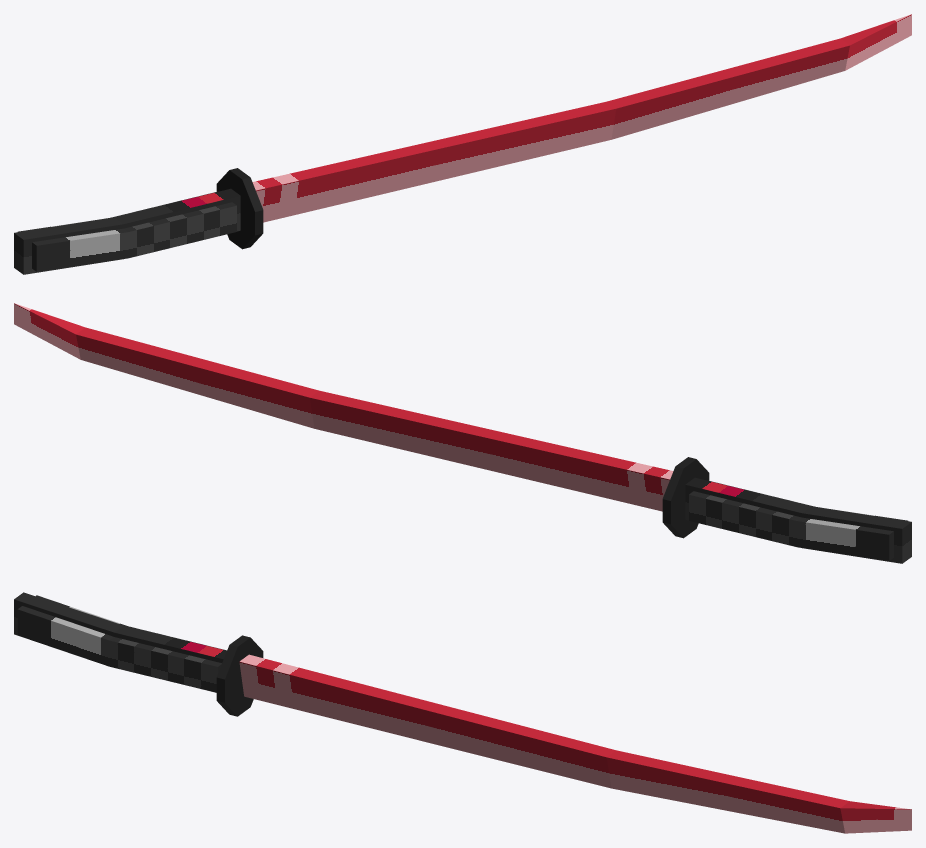
Rendered from murasama.fbx.
The picture shows the model from 3 angles, top to bottom: view 1: azimuth 30°, elevation 25°; view 2: azimuth 150°, elevation 25°; view 3: azimuth 330°, elevation 25°; orthographic projection.
Parts seen in each view (by area): view 1: mesh_3, mesh_1, mesh, mesh_2; view 2: mesh_3, mesh_1, mesh, mesh_2; view 3: mesh_3, mesh_1, mesh, mesh_2.
Boxes of the visible parts, x1,y1,x2,y2 form: mesh_3: (252, 14, 911, 222); mesh_1: (18, 191, 236, 271); mesh: (14, 188, 240, 274); mesh_2: (216, 168, 263, 249); mesh_3: (14, 303, 673, 511); mesh_1: (689, 480, 907, 560); mesh: (685, 477, 911, 563); mesh_2: (662, 457, 709, 538); mesh_3: (239, 654, 911, 833); mesh_1: (17, 595, 226, 692); mesh: (14, 592, 226, 662); mesh_2: (216, 635, 263, 716).
Bounding box in the file's own units: 334 × 25 × 25.
1 material, 1 textured.
